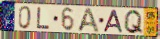0: (18, 5, 32, 30)
6: (61, 6, 76, 32)
A: (76, 7, 101, 34), (102, 9, 125, 34)
L: (36, 6, 51, 30)
Q: (123, 9, 144, 36)
